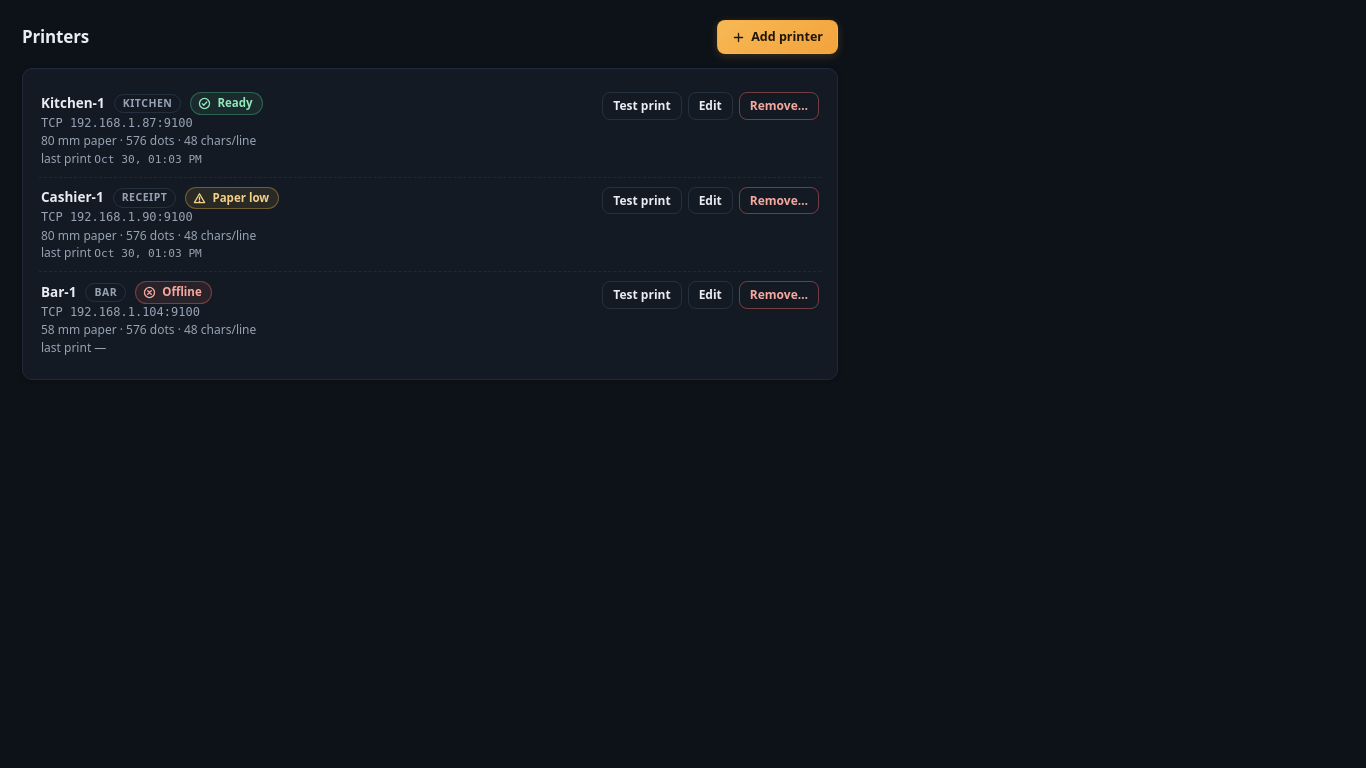
it: PrintersScreen › surfaces store-schema validation errors without closing the dialog
Click the button "Add printer". click: [778, 37]
box: left=717, top=20, right=838, bottom=54
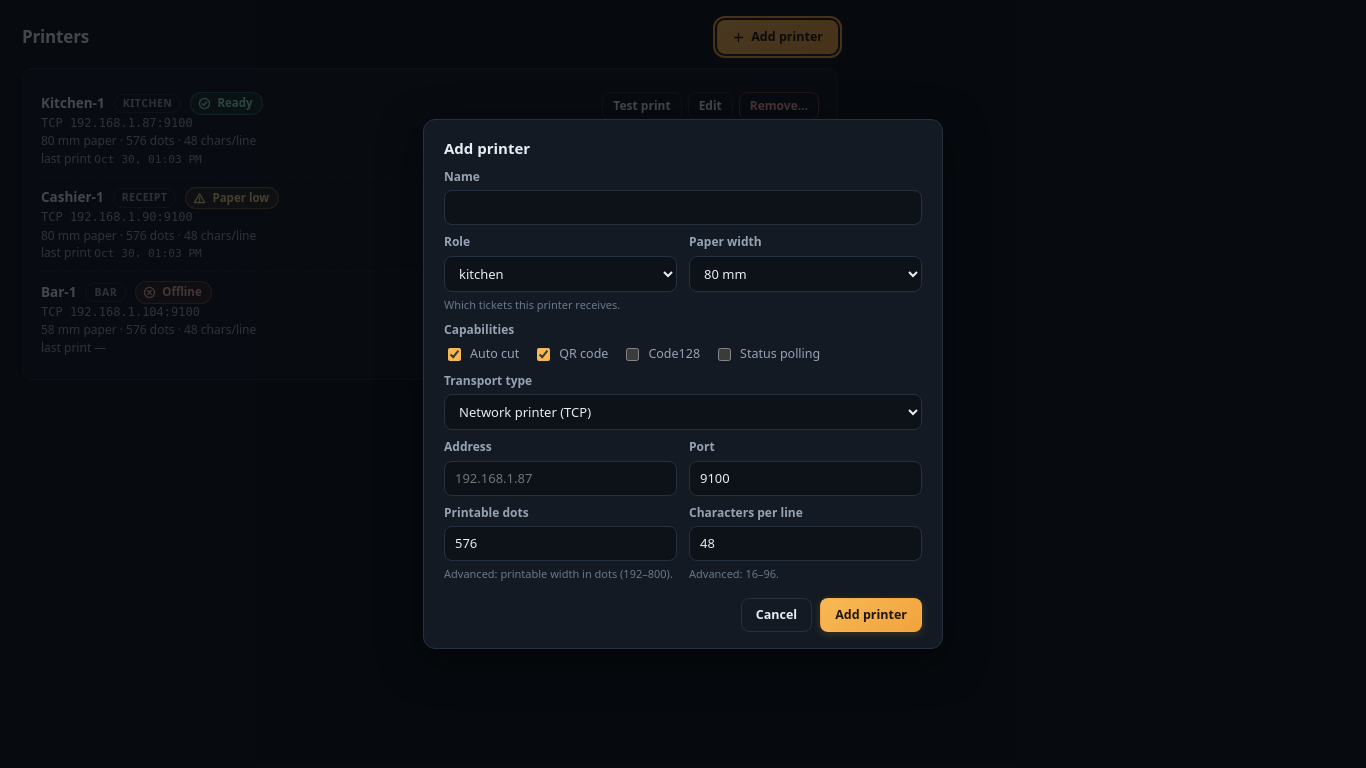
Type "Bad-1" into the field labelled "Name". click: [683, 208]
box: left=444, top=190, right=922, bottom=225
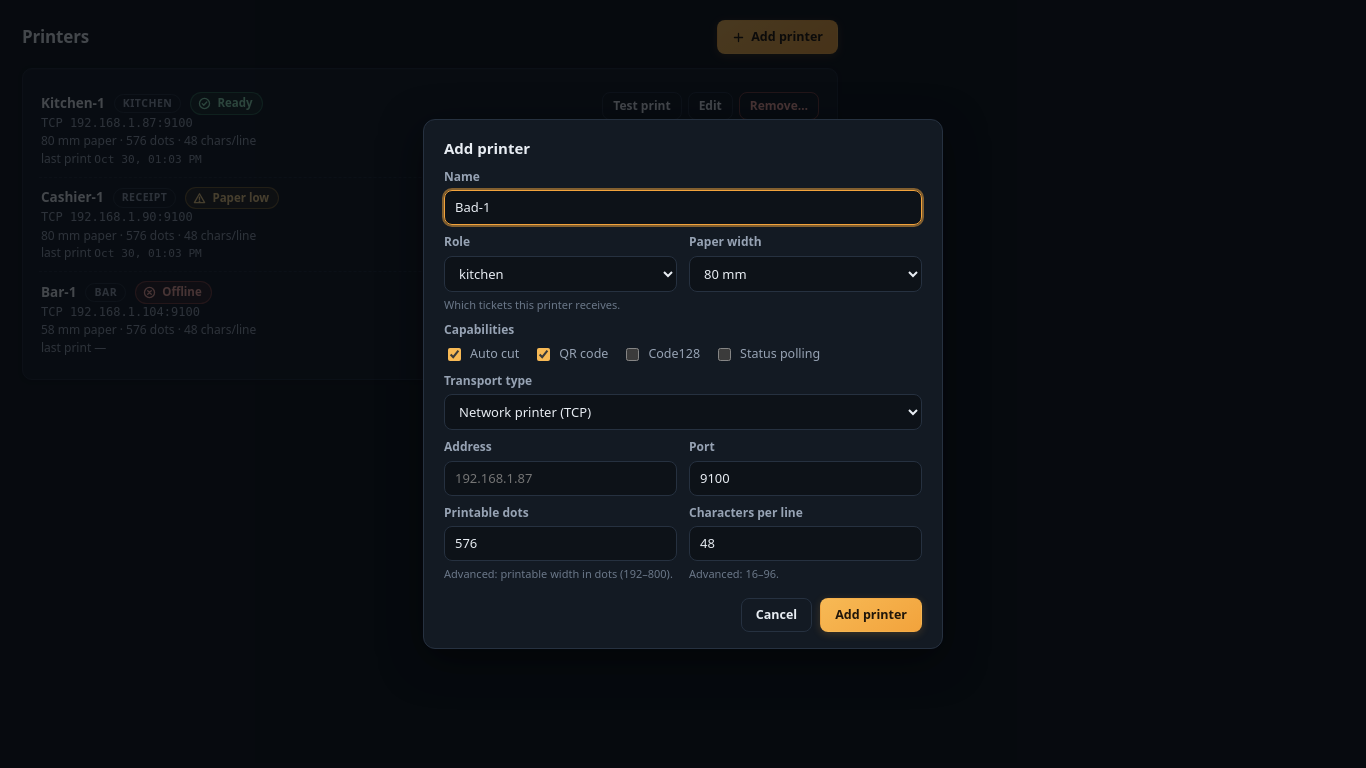
Type "printer.local" into the field with placeholder "192.168.1.87". click: [560, 478]
box: left=444, top=461, right=677, bottom=496
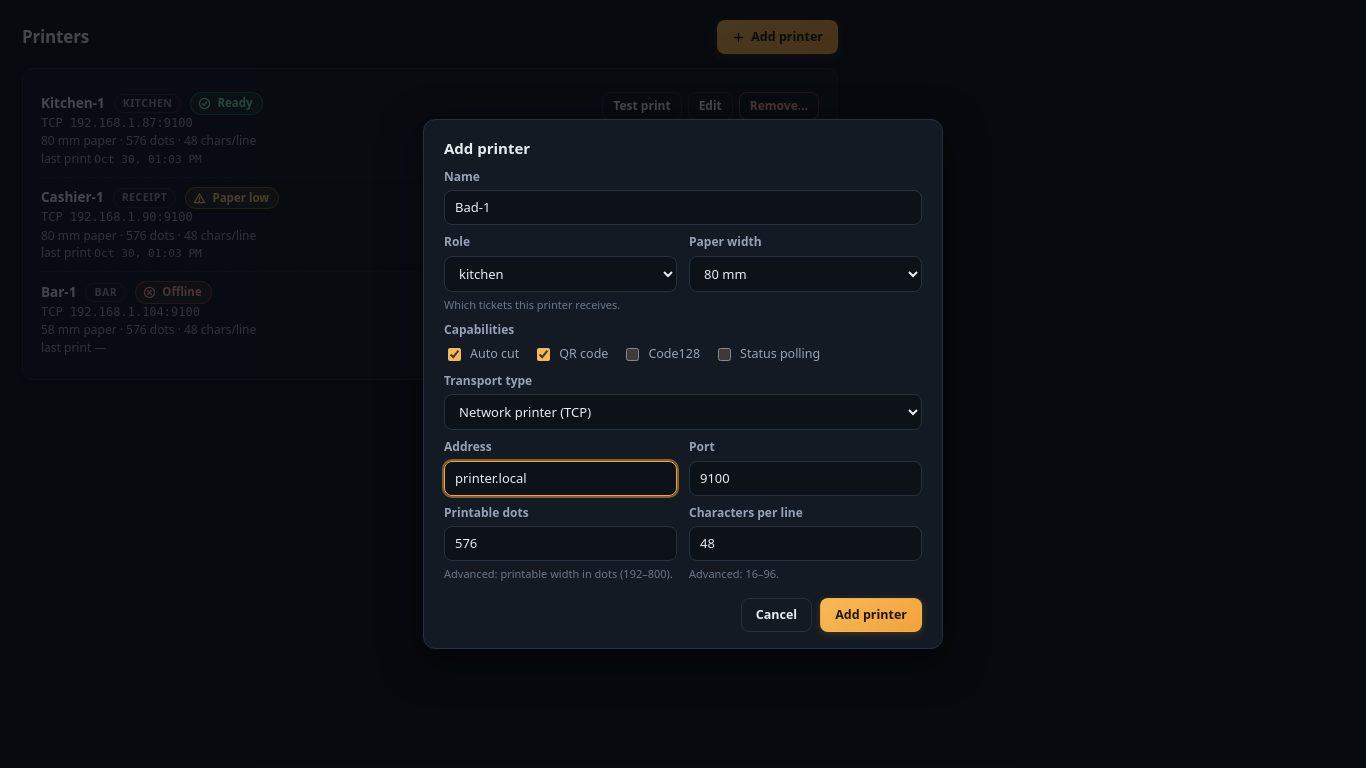
Click the button "Add printer". click: [871, 615]
box: left=820, top=598, right=922, bottom=632
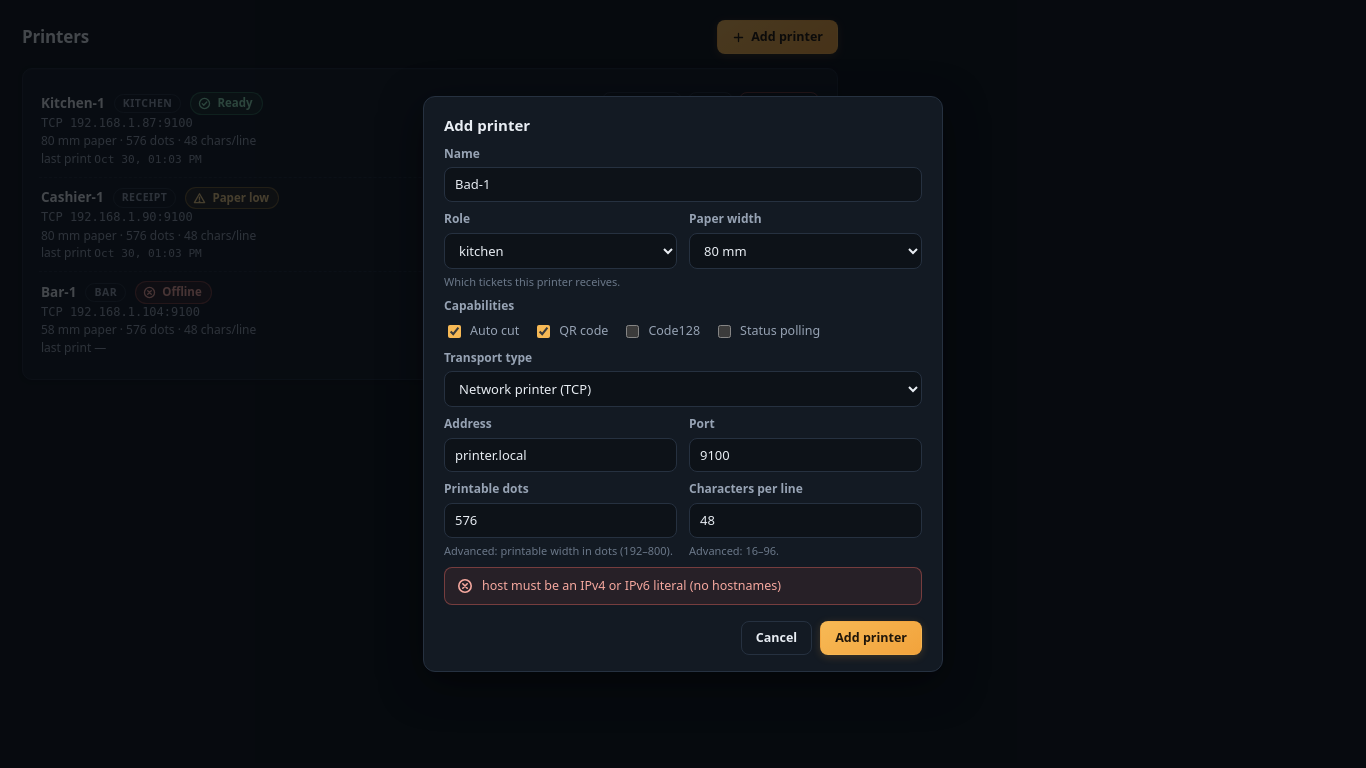
Expected: the dialog is shown, left=423, top=96, right=943, bottom=672
Expected: the message shows "IPv4 or IPv6", left=482, top=577, right=781, bottom=594
